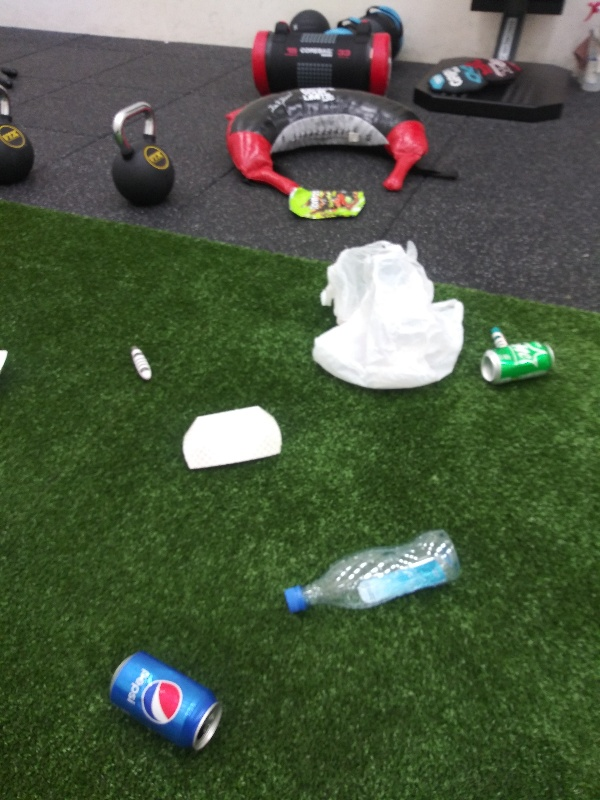bag: (285, 186, 374, 222)
bottle: (277, 525, 463, 620)
can: (100, 651, 227, 751), (477, 335, 562, 384)
plate: (181, 402, 284, 480)
